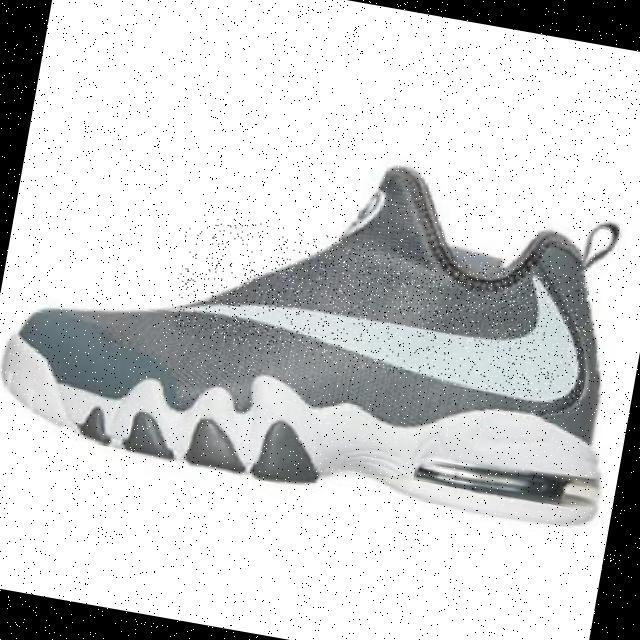Nike: (166, 211, 601, 407)
